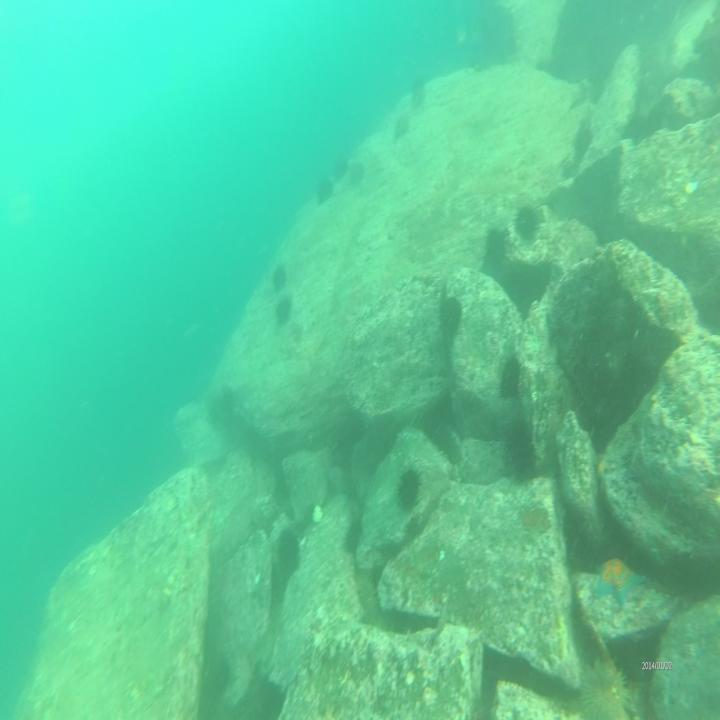echinus: (578, 653, 636, 720), (504, 415, 539, 484), (396, 466, 422, 512), (276, 527, 301, 573), (502, 351, 524, 403), (439, 294, 464, 331), (515, 201, 538, 241), (487, 222, 507, 268), (275, 294, 292, 329), (410, 76, 426, 111), (270, 264, 290, 292), (316, 175, 334, 202), (394, 113, 412, 137), (333, 154, 347, 178), (351, 162, 365, 184)
starfish: (592, 548, 644, 612)
